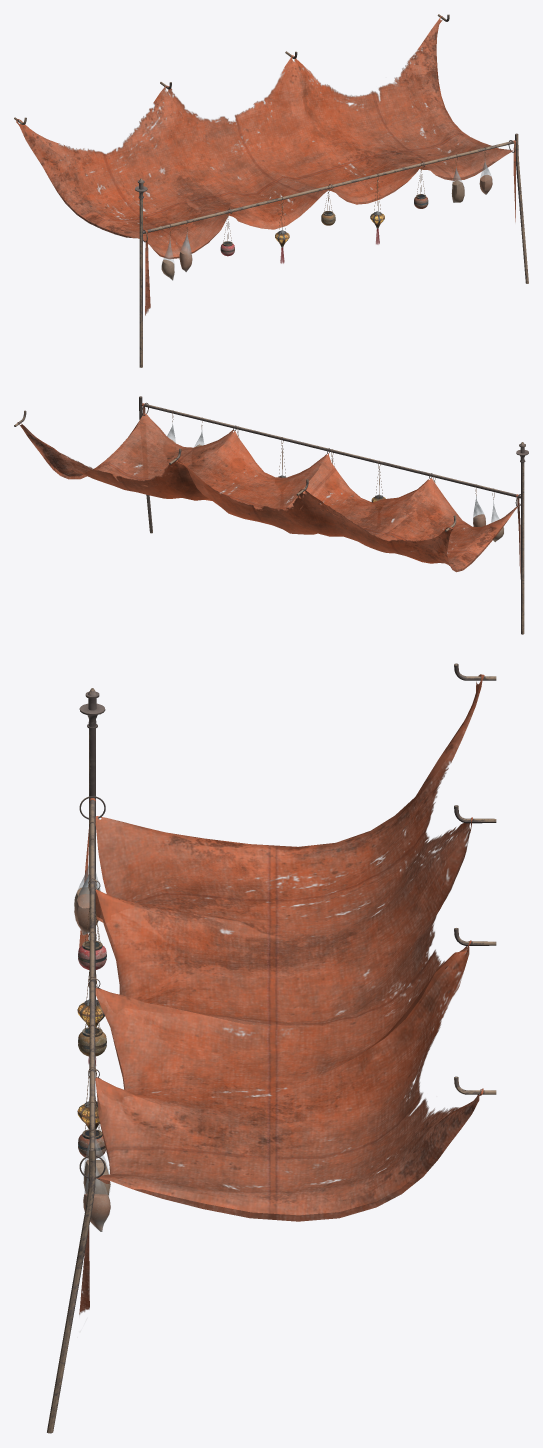
File: xi_dsp_shade.gltf
3 views of the same model, one above another, from view 1: azimuth 30°, elevation 25°; view 2: azimuth 150°, elevation 25°; view 3: azimuth 270°, elevation 25° (orthographic). The views are drawn at different scales.
Parts seen in each view (by area): view 1: xi_dsp_shade; view 2: xi_dsp_shade; view 3: xi_dsp_shade.
Boxes of the visible parts, <box> form: xi_dsp_shade: <box>14,14,528,367</box>; xi_dsp_shade: <box>14,396,528,634</box>; xi_dsp_shade: <box>47,663,496,1433</box>.
Size of the model in its own units: 12.73 by 5.36 by 5.79.
Materials: 1 (1 with a texture image).
